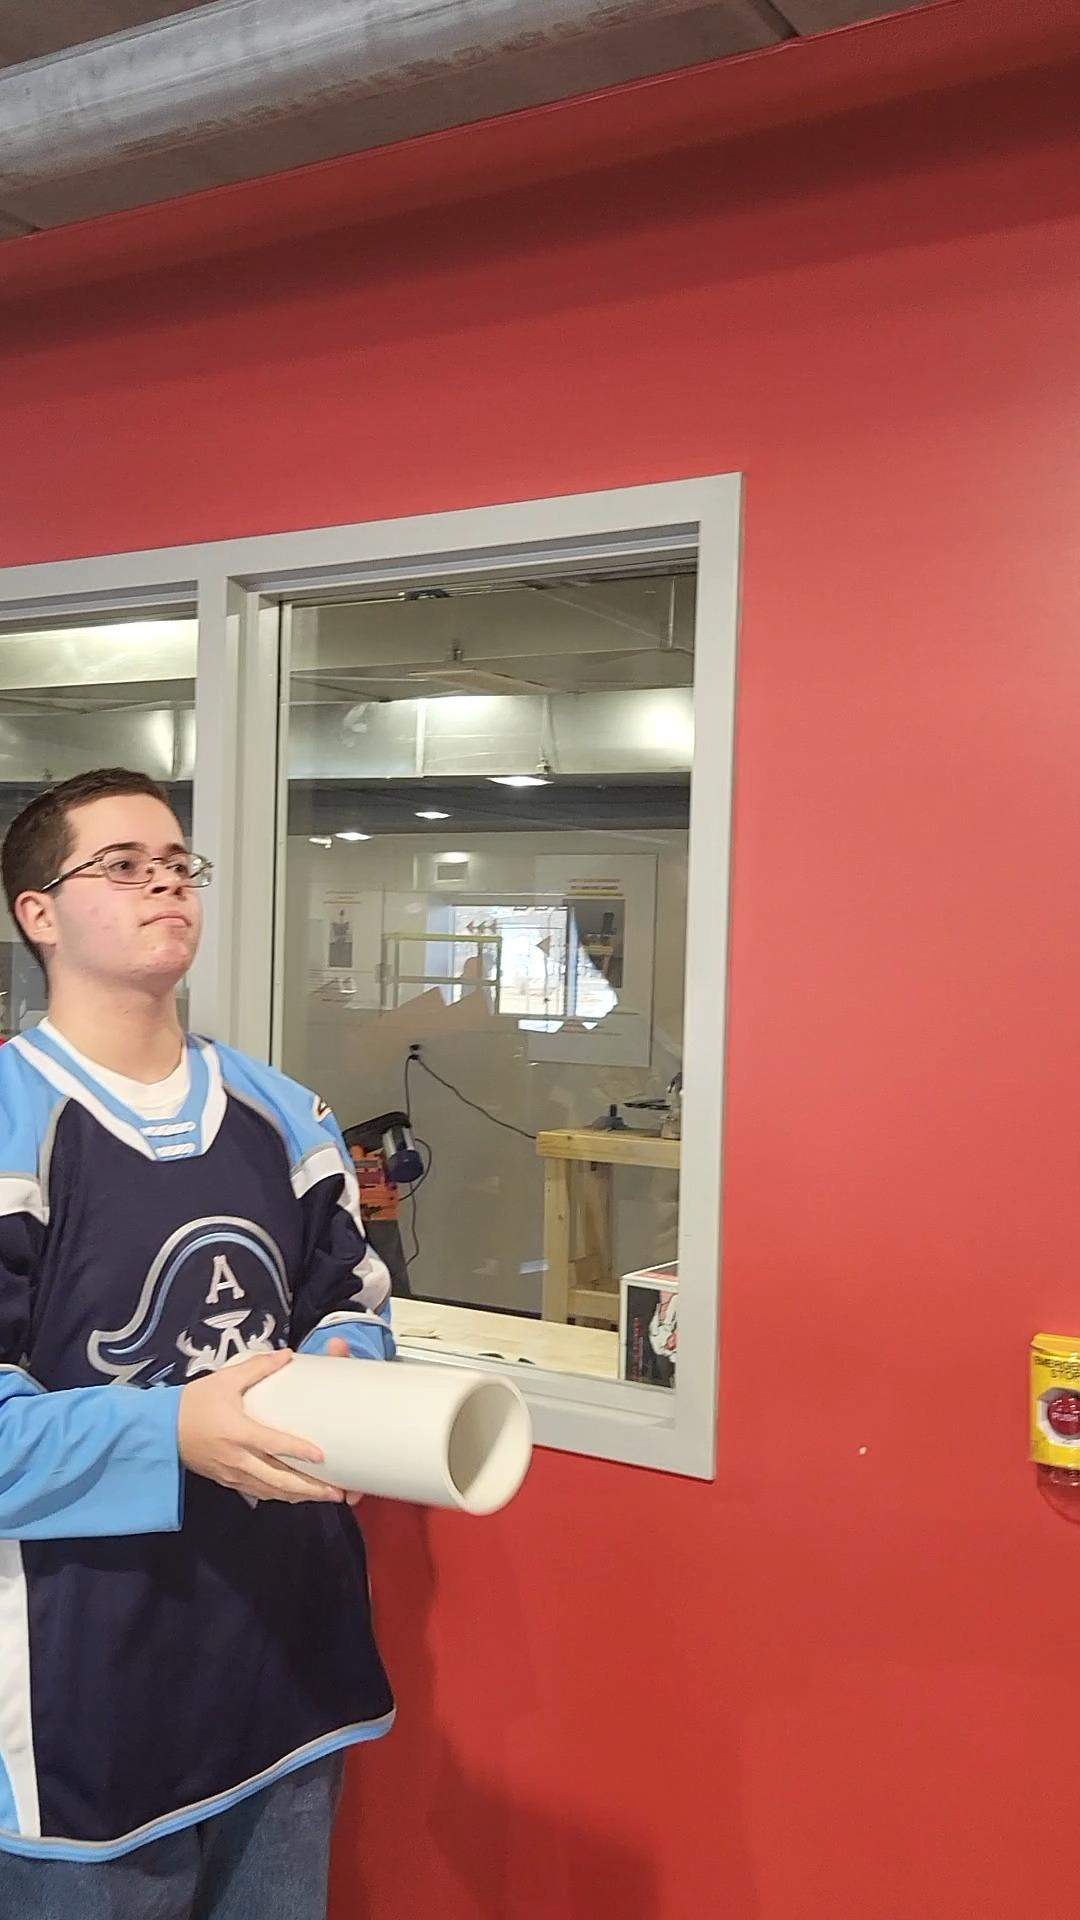coral: (190, 1331, 541, 1514)
